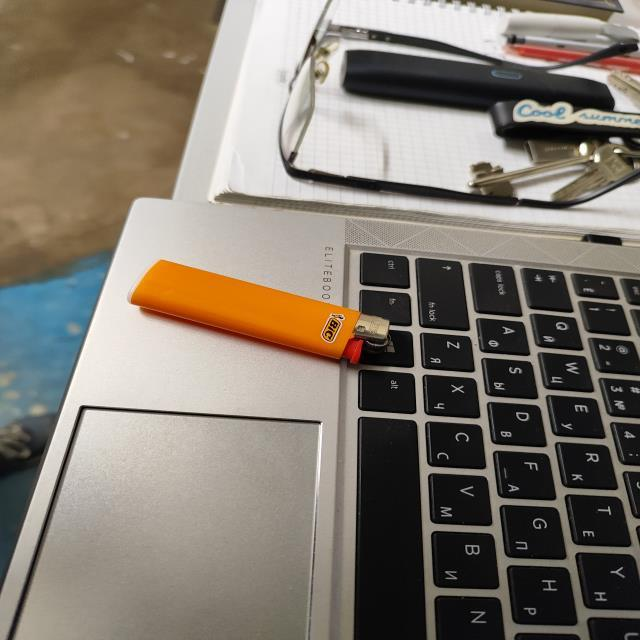lighter: (130, 259, 392, 361)
